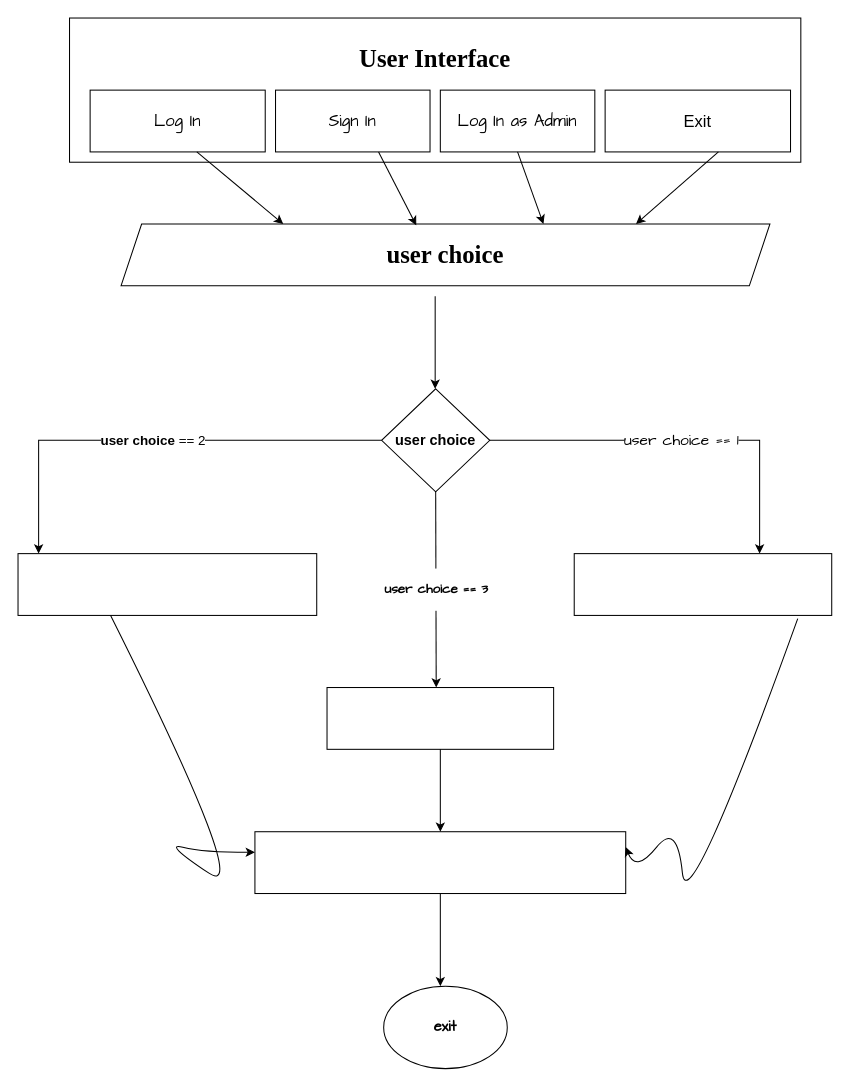
Image size: 850x1087. Some labels were removed from this diagram. The centre of each missing label's shape, as x and y in pixels:
"log in as admin interface" belongs at pixel 440 717.
"Log in interface" belongs at pixel 167 584.
"performs respective task" belongs at pixel 440 862.
"Signup interface" belongs at pixel 702 584.
